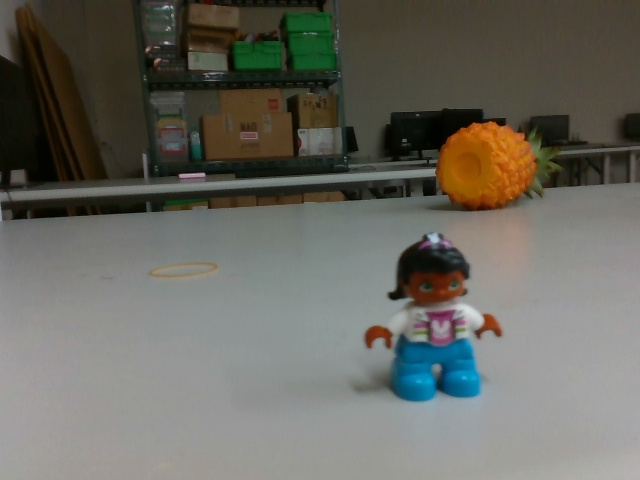people: (362, 232, 508, 407)
pineapple: (430, 120, 557, 211)
